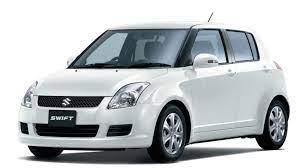Hatchback: (14, 21, 289, 161)
